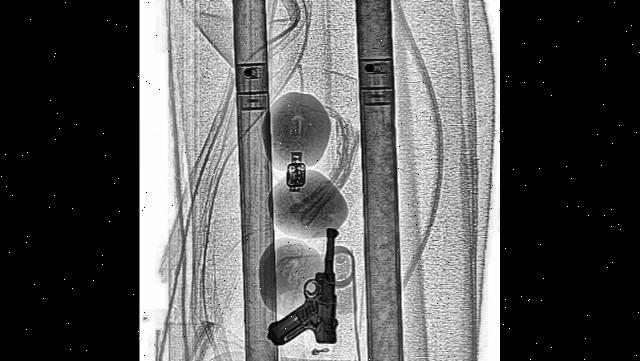Gun: (264, 228, 339, 353)
